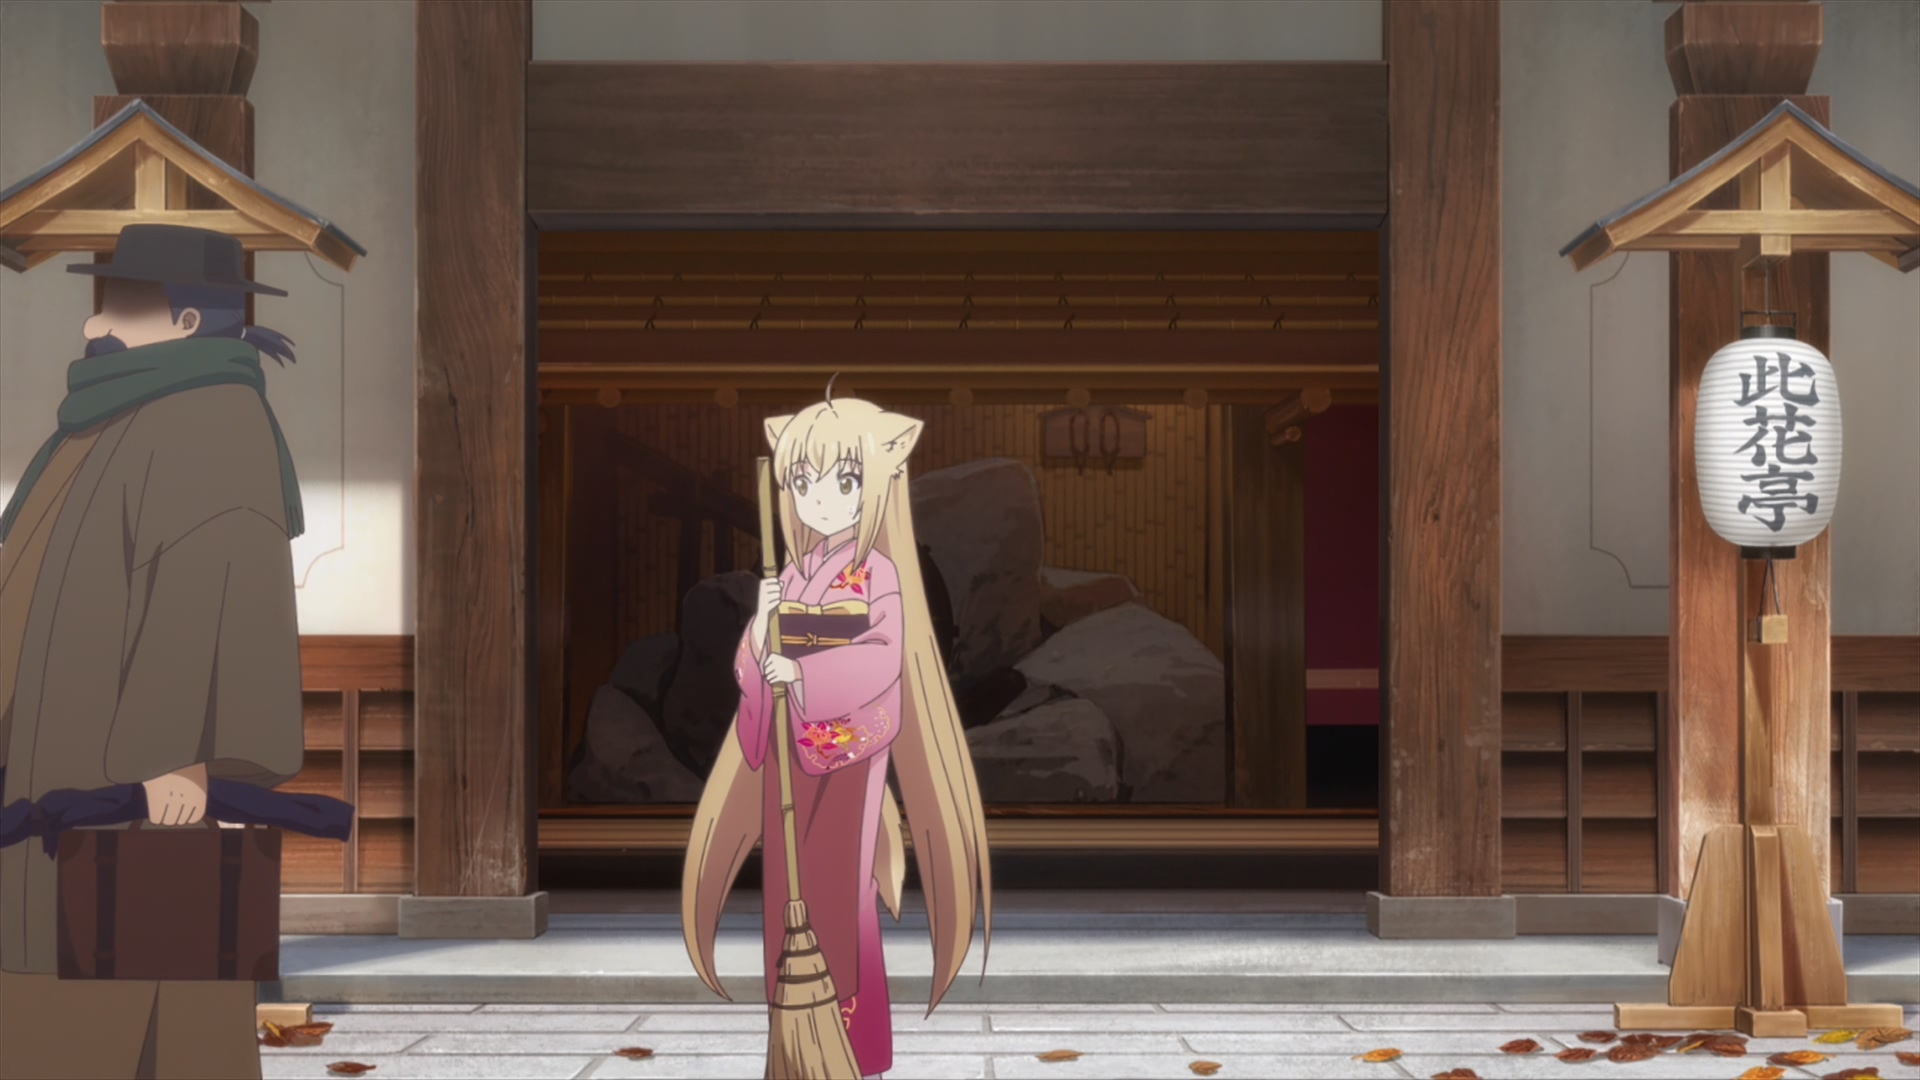其他: (1, 223, 305, 1080)
柚: (680, 375, 992, 1080)
